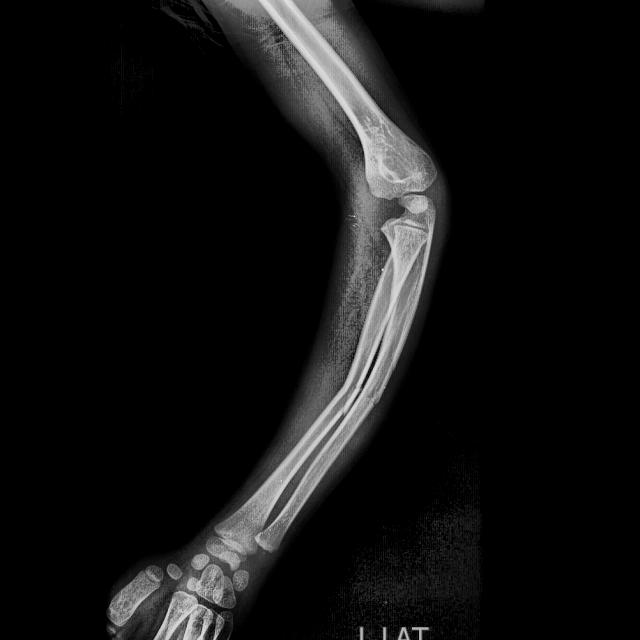angle: (358, 380, 384, 411), (339, 377, 357, 416)
